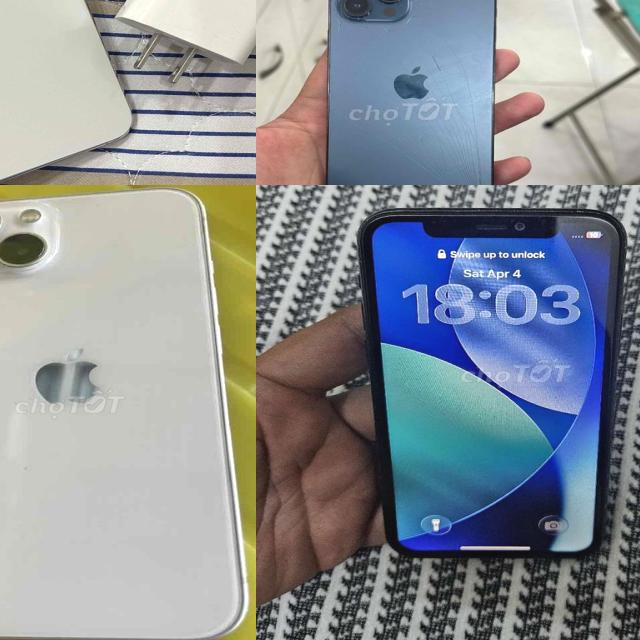gen_11: (358, 208, 626, 558), (0, 0, 142, 185)
gen_12_13: (0, 186, 256, 640), (320, 0, 504, 185)
physical_damage: (329, 37, 499, 185), (332, 0, 432, 36)
